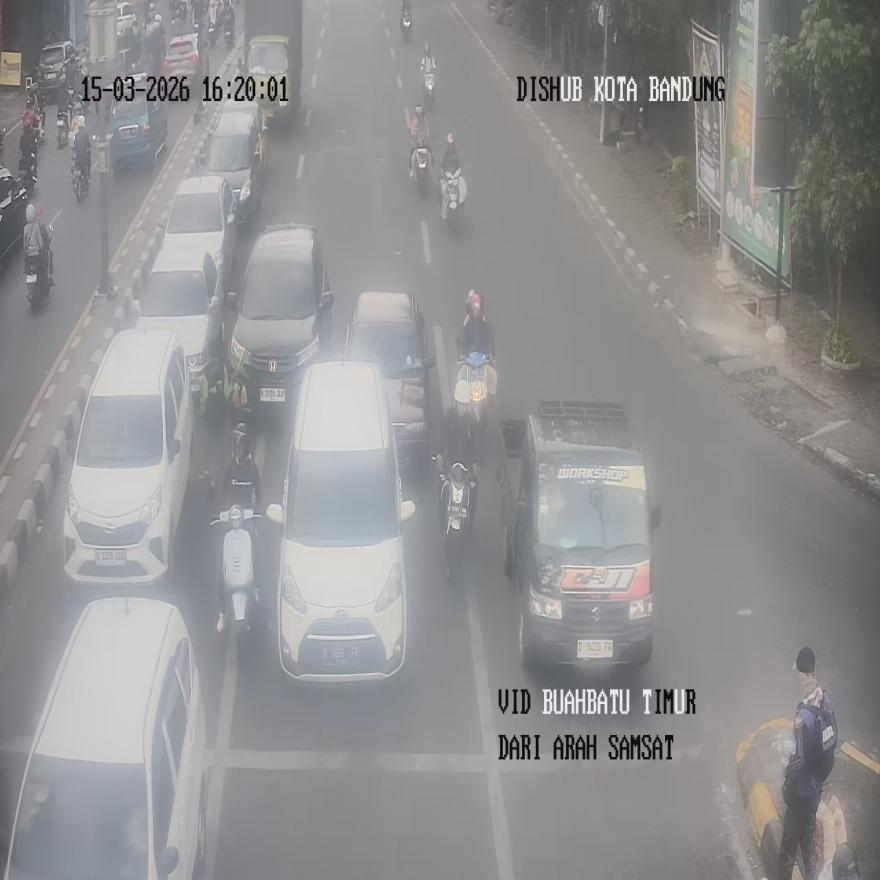Mobil: (2, 595, 209, 878), (267, 360, 415, 684), (499, 399, 660, 668), (62, 321, 193, 586), (226, 223, 333, 414), (344, 291, 436, 464), (138, 242, 225, 411), (160, 174, 236, 301), (202, 100, 266, 227)
Motor: (210, 506, 261, 651), (438, 457, 476, 582), (25, 234, 54, 312), (439, 165, 465, 224), (410, 140, 430, 196), (56, 87, 74, 149), (71, 149, 90, 202), (423, 66, 435, 106), (56, 109, 68, 149), (401, 2, 412, 39), (224, 10, 234, 49)
